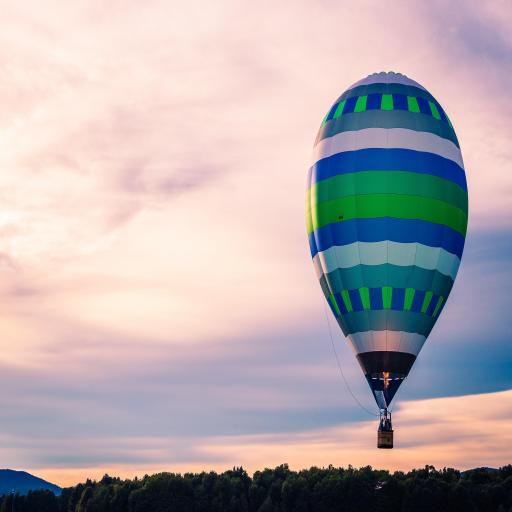hot air ballon: (301, 65, 471, 450)
